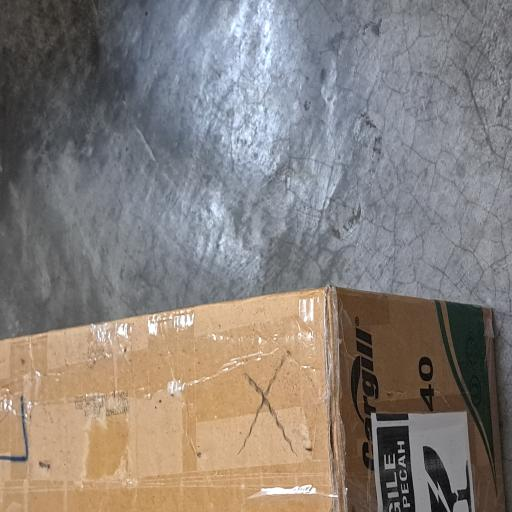cardboard: (0, 0, 171, 512)
